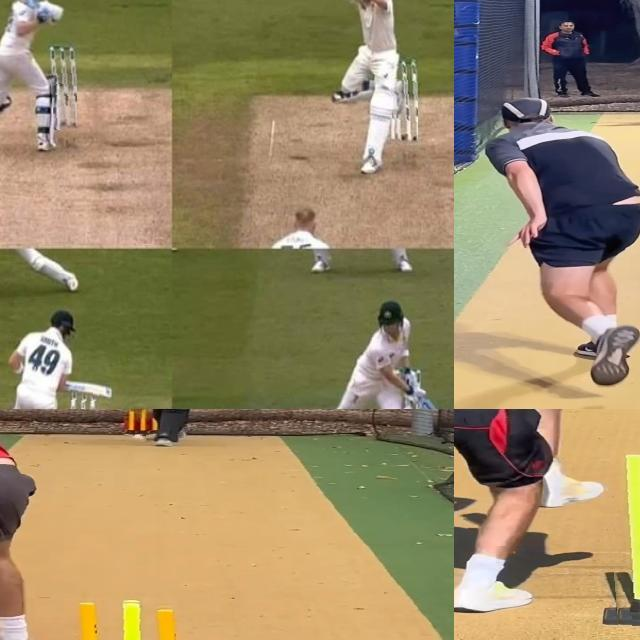Cricket ball: (132, 434, 146, 442)
Stumps: (603, 451, 640, 626), (56, 599, 193, 640), (48, 44, 78, 130), (389, 58, 418, 144), (70, 388, 99, 409)
